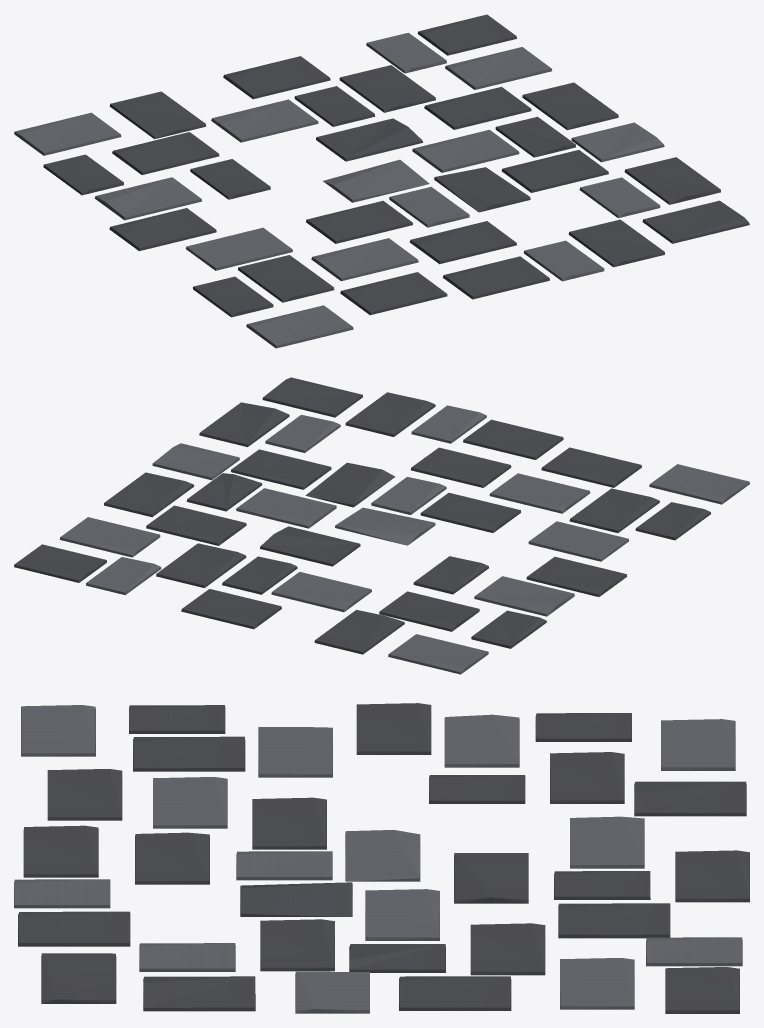
File: Road_Path_Ground_2.fbx
The picture shows the model from 3 angles, top to bottom: view 1: azimuth 30°, elevation 25°; view 2: azimuth 150°, elevation 25°; view 3: azimuth 270°, elevation 25°; orthographic projection. The views are drawn at different scales.
Parts seen in each view (by area): view 1: polySurface9890; view 2: polySurface9890; view 3: polySurface9890.
Boxes of the visible parts, bbox=[...] form: polySurface9890: bbox=[14, 14, 749, 348]; polySurface9890: bbox=[14, 377, 749, 674]; polySurface9890: bbox=[14, 703, 749, 1013].
Size of the model in its own units: 388 by 4.56 by 394.
